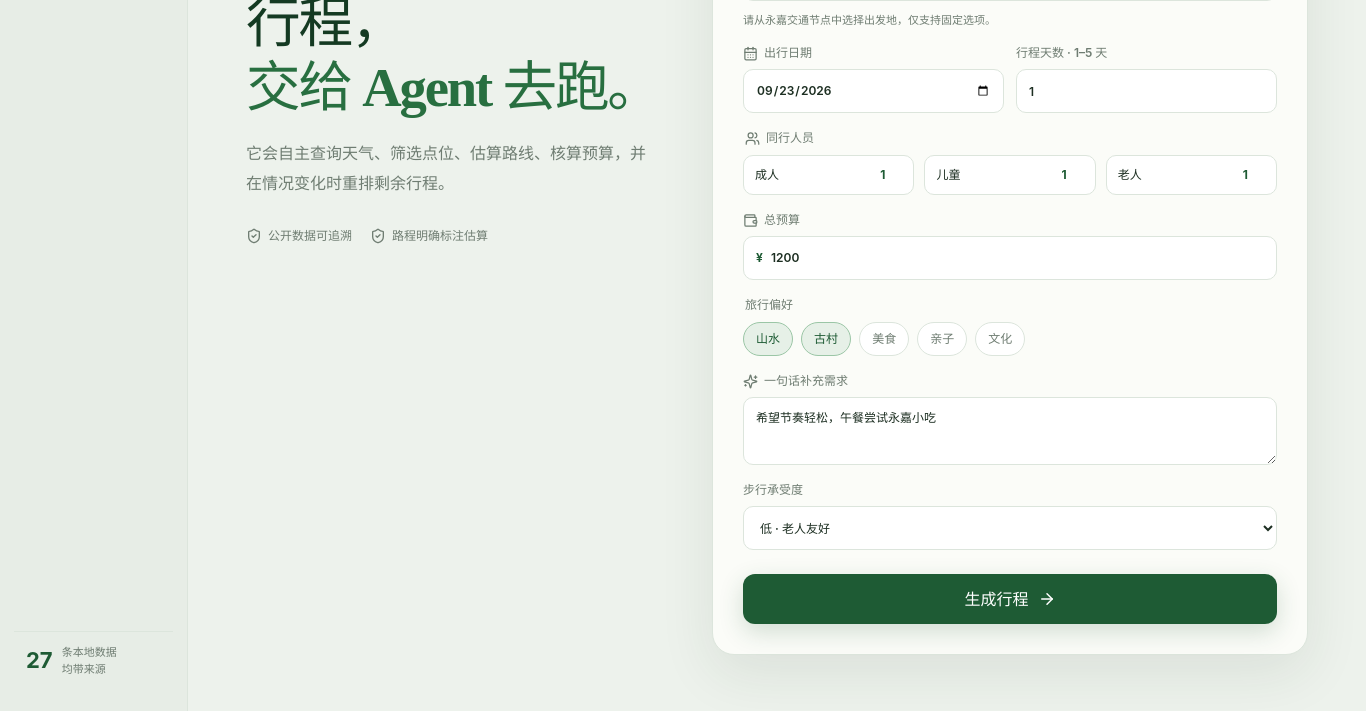
Test case: App online orchestration › uses AI interpretation and live weather when Netlify APIs are available
(page scrolled)
What coordinates should you click on to do the following:
click the button "生成行程"
I would click on:
 (1010, 599)
Its box is [743, 574, 1277, 624].
(page scrolled)
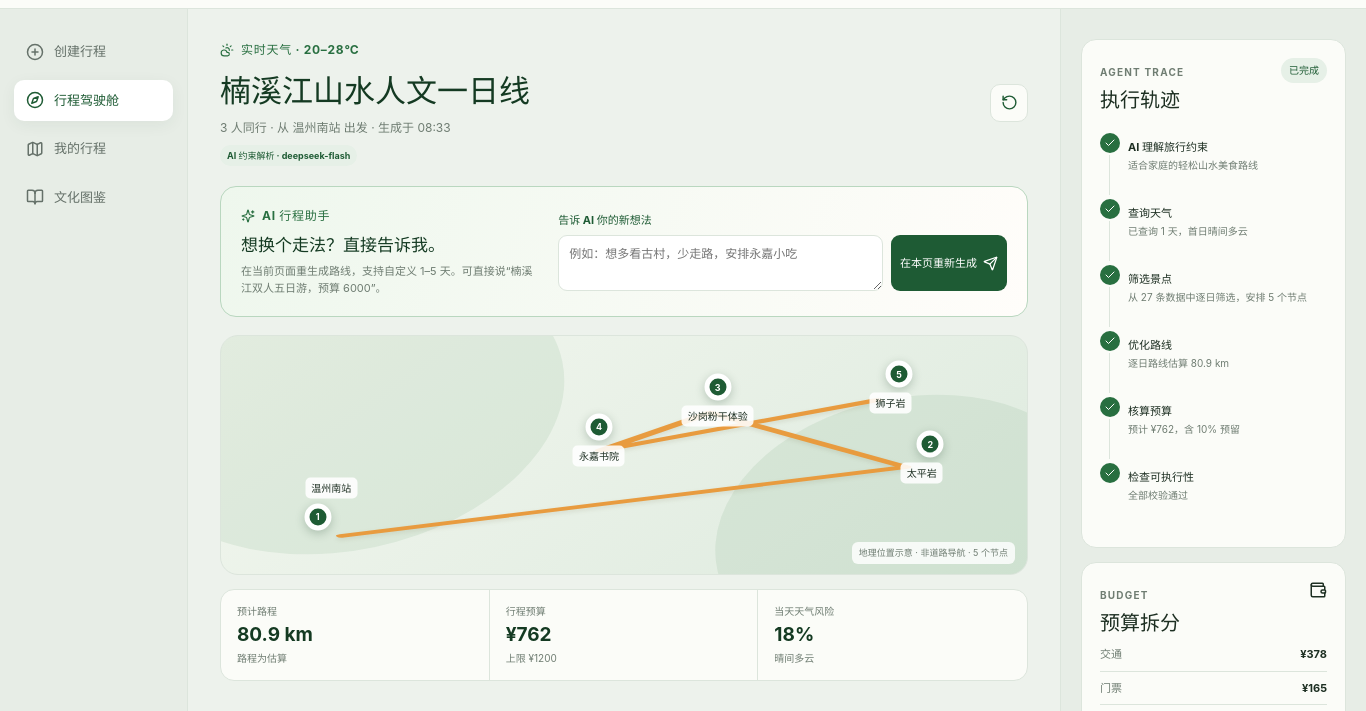
Now the text "AI 约束解析 · deepseek-flash" is shown, box [220, 144, 357, 166]
Now the text "实时天气 · 20–28℃" is shown, box [220, 41, 359, 59]
Now the text "适合家庭的轻松山水美食路线" is shown, box [1128, 159, 1258, 171]
